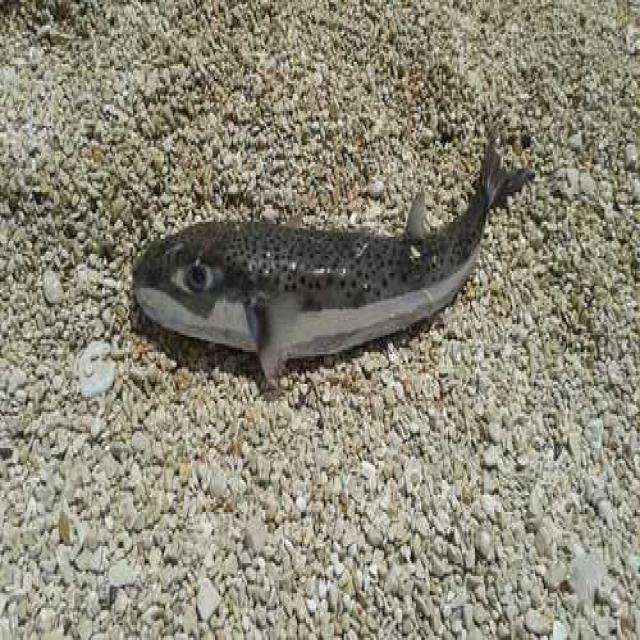Balik: (134, 139, 532, 379)
